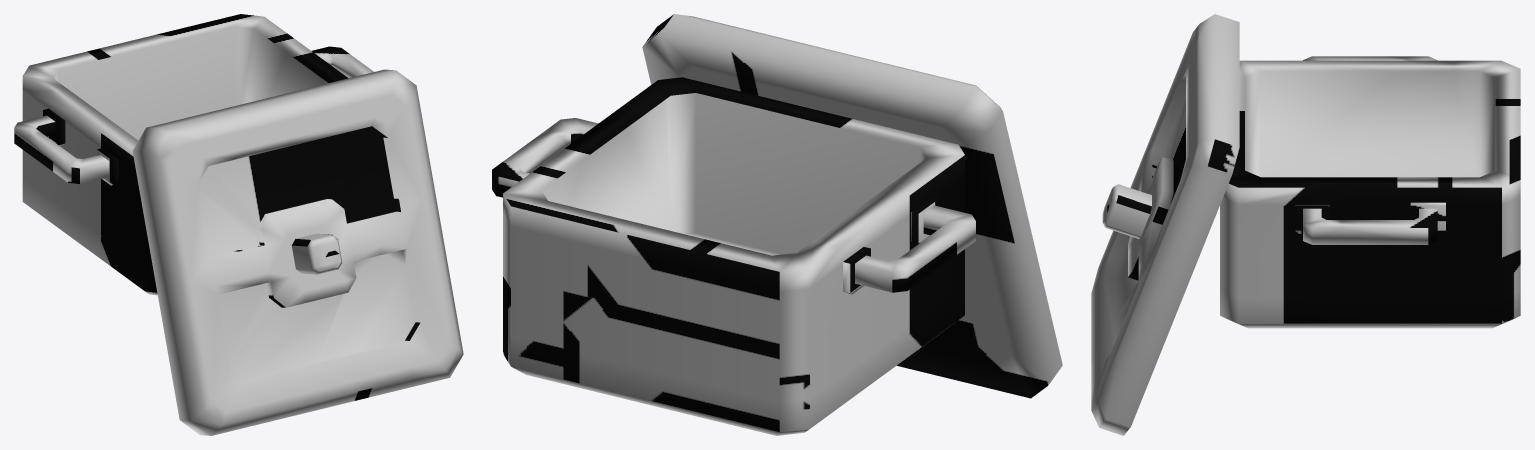
Rendered from BC_cauldron04_break.fbx.
3 views of the same model, side by side, from view 1: azimuth 30°, elevation 25°; view 2: azimuth 150°, elevation 25°; view 3: azimuth 270°, elevation 25° (orthographic). The views are drawn at different scales.
Visible parts, largest first — view 1: model04 1, model04; view 2: model04, model04 1; view 3: model04, model04 1.
Boxes of the visible parts, box(x1,y1,x2,y2) form: model04 1: box(132, 69, 463, 435); model04: box(14, 14, 373, 295); model04: box(492, 77, 975, 435); model04 1: box(642, 14, 1062, 398); model04: box(1220, 56, 1520, 328); model04 1: box(1091, 14, 1239, 435).
Bounding box in the file's own units: 5.41 × 4.36 × 5.71.
